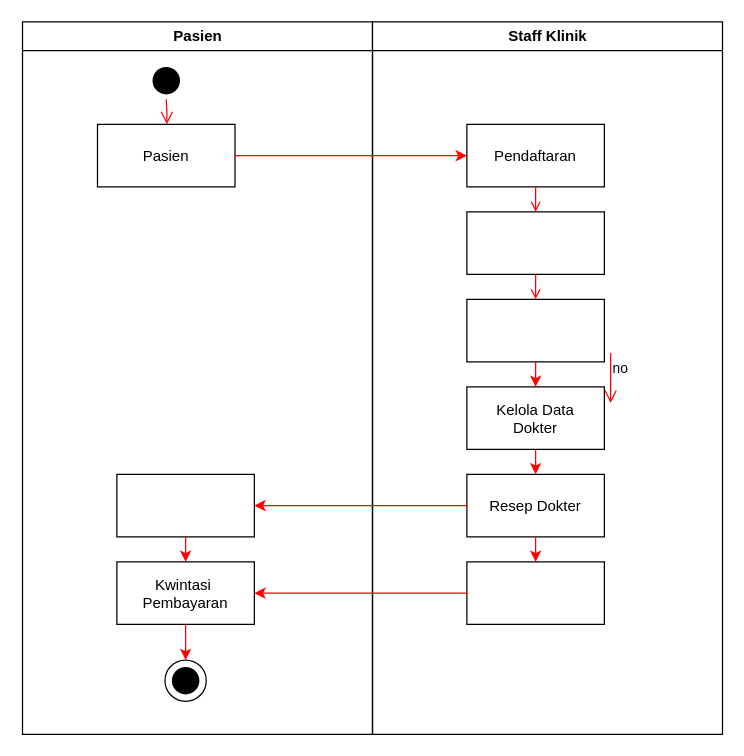
Some shapes in this 744 by 756 pixel diagram are drawn without their labels. Here are the shapes that lost their labels. From the top down, the centre of each, then its label:
point (535, 242): Menyutujui Pendaftaran
point (535, 330): Proses Diagnose
point (185, 505): Diberikan kepada pasien
point (535, 592): Pembayaran
